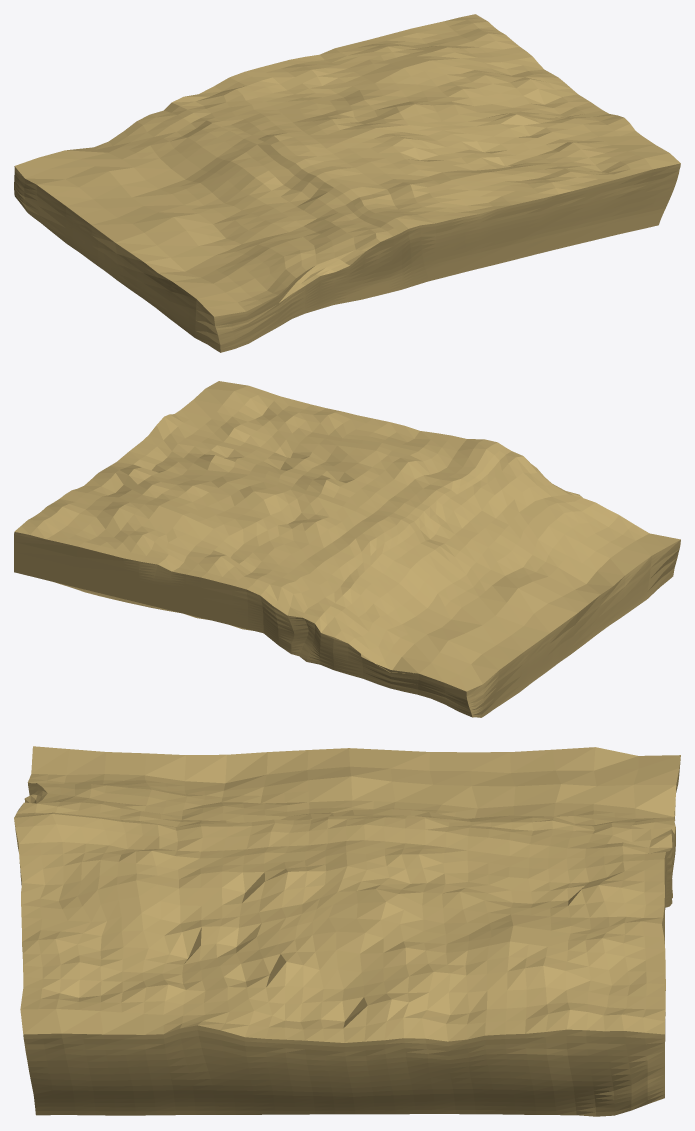
File: Updated_Sand 1.fbx
3 renders of one model, top to bottom at view 1: azimuth 30°, elevation 25°; view 2: azimuth 150°, elevation 25°; view 3: azimuth 270°, elevation 25°, orthographic. The views are drawn at different scales.
Visible parts, largest first — view 1: Cube.001; view 2: Cube.001; view 3: Cube.001.
Part boxes in pixels (x1,y1,x2,y2): Cube.001: (14,14,680,352); Cube.001: (14,381,680,717); Cube.001: (14,746,680,1116).
Bounding box in the file's own units: 386 × 77.18 × 306.
